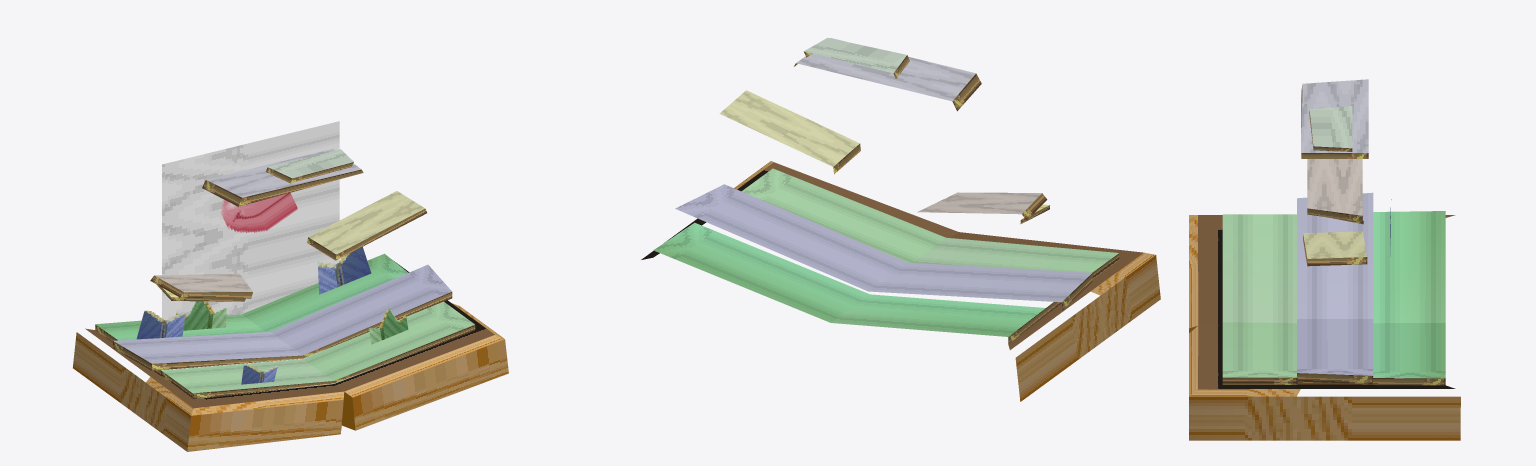
The model's file is Yoshi'sIsland1P.glb.
3 views of the same model, side by side, from view 1: azimuth 30°, elevation 25°; view 2: azimuth 150°, elevation 25°; view 3: azimuth 270°, elevation 25° (orthographic). The views are drawn at different scales.
Parts seen in each view (by area): view 1: Yoshi'sIsland1P_Alpha_3, Yoshi'sIsland1P_17, Yoshi'sIsland1P_9, Yoshi'sIsland1P_13, Yoshi'sIsland1P_Alpha_10, Yoshi'sIsland1P_19, Yoshi'sIsland1P_Alpha_5, Yoshi'sIsland1P_Alpha_4, Yoshi'sIsland1P_Alpha_6, Yoshi'sIsland1P_11, Yoshi'sIsland1P_12; view 2: Yoshi'sIsland1P_9, Yoshi'sIsland1P_Alpha_3, Yoshi'sIsland1P_Alpha_10, Yoshi'sIsland1P_17, Yoshi'sIsland1P_19, Yoshi'sIsland1P_11, Yoshi'sIsland1P_13, Yoshi'sIsland1P_Alpha_2, Yoshi'sIsland1P_12; view 3: Yoshi'sIsland1P_9, Yoshi'sIsland1P_17, Yoshi'sIsland1P_Alpha_3, Yoshi'sIsland1P_Alpha_10, Yoshi'sIsland1P_19, Yoshi'sIsland1P_13, Yoshi'sIsland1P_11, Yoshi'sIsland1P_Alpha_2, Yoshi'sIsland1P_12.
Part boxes in pixels (x1,y1,x2,y2): Yoshi'sIsland1P_Alpha_3: (96,121,408,340); Yoshi'sIsland1P_17: (73,303,508,451); Yoshi'sIsland1P_9: (113,264,474,393); Yoshi'sIsland1P_13: (95,162,475,399); Yoshi'sIsland1P_Alpha_10: (154,148,424,292); Yoshi'sIsland1P_19: (151,303,494,408); Yoshi'sIsland1P_Alpha_5: (136,247,371,384); Yoshi'sIsland1P_Alpha_4: (220,192,297,233); Yoshi'sIsland1P_Alpha_6: (176,301,408,344); Yoshi'sIsland1P_11: (163,149,353,297); Yoshi'sIsland1P_12: (202,167,292,206); Yoshi'sIsland1P_9: (675,168,1118,302); Yoshi'sIsland1P_Alpha_3: (653,222,1045,336); Yoshi'sIsland1P_Alpha_10: (719,38,1041,214); Yoshi'sIsland1P_17: (734,161,1160,401); Yoshi'sIsland1P_19: (737,162,1142,291); Yoshi'sIsland1P_11: (804,37,1049,219); Yoshi'sIsland1P_13: (833,144,1119,343); Yoshi'sIsland1P_Alpha_2: (641,218,1090,349); Yoshi'sIsland1P_12: (794,51,981,111); Yoshi'sIsland1P_9: (1222,192,1373,377); Yoshi'sIsland1P_17: (1189,215,1460,440); Yoshi'sIsland1P_Alpha_3: (1373,211,1445,378); Yoshi'sIsland1P_Alpha_10: (1301,79,1368,258); Yoshi'sIsland1P_19: (1198,215,1300,388); Yoshi'sIsland1P_13: (1222,86,1445,385); Yoshi'sIsland1P_11: (1309,106,1352,148); Yoshi'sIsland1P_Alpha_2: (1298,215,1455,388); Yoshi'sIsland1P_12: (1301,146,1368,158).
Bounding box in the file's own units: 675 × 509 × 400.
Materials: 21 (21 with a texture image).
